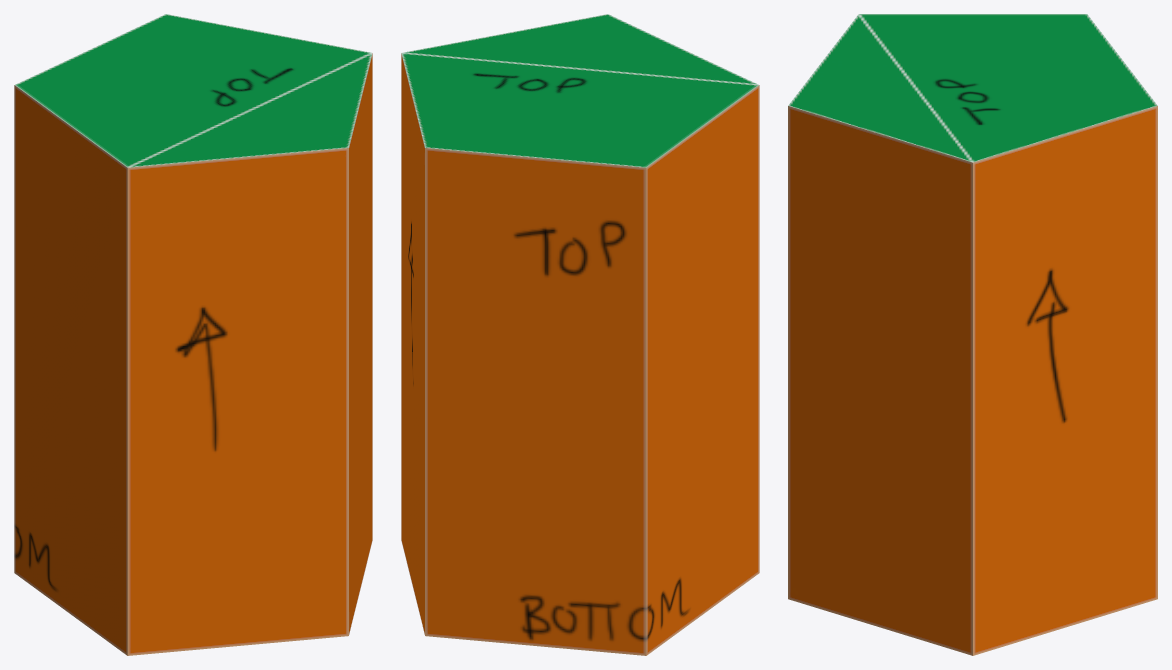
The model's file is hs_sodaCan.fbx.
The picture shows the model from 3 angles, left to right: view 1: azimuth 30°, elevation 25°; view 2: azimuth 150°, elevation 25°; view 3: azimuth 270°, elevation 25°; orthographic projection.
Visible parts, largest first — view 1: soda; view 2: soda; view 3: soda.
Part boxes in pixels (box(x1,y1,x2,y2)): soda: box(14, 14, 372, 655); soda: box(401, 14, 759, 655); soda: box(788, 14, 1157, 655).
Bounding box in the file's own units: 1.81 × 2.8 × 1.91.
